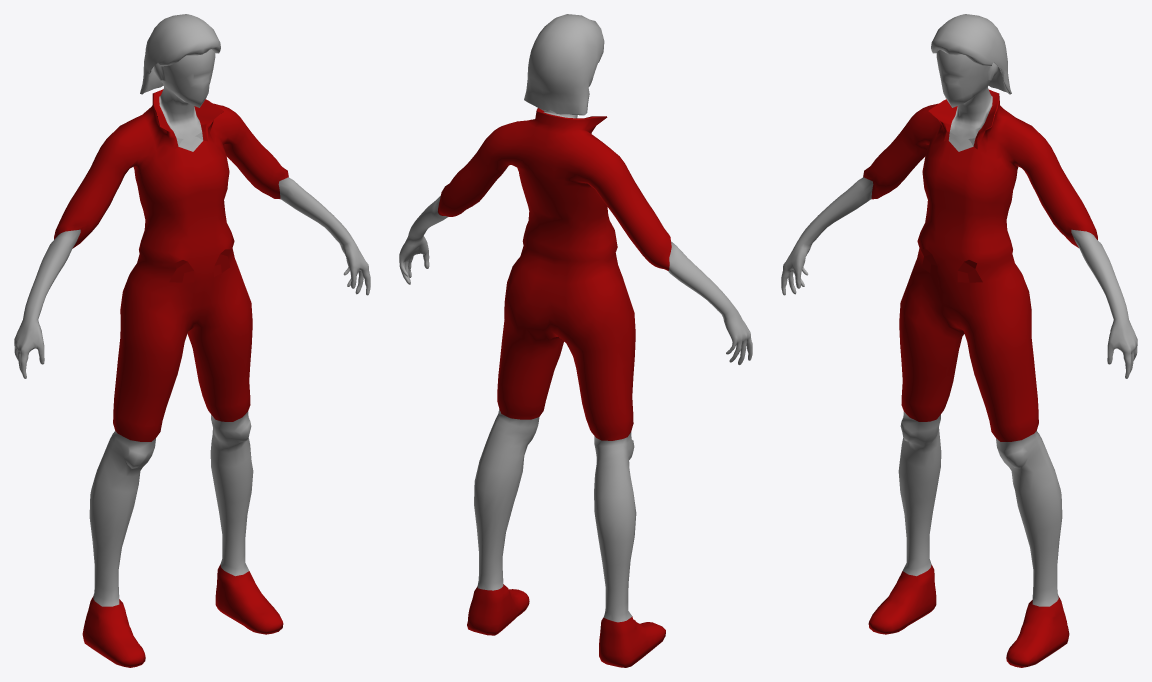
Rendered from Body_Low_UV.fbx.
3 renders of one model, left to right at view 1: azimuth 30°, elevation 25°; view 2: azimuth 150°, elevation 25°; view 3: azimuth 330°, elevation 25°, orthographic.
Visible parts, largest first — view 1: mesh_Alice; view 2: mesh_Alice; view 3: mesh_Alice.
Boxes of the visible parts, x1,y1,x2,y2 form: mesh_Alice: (14, 14, 370, 667); mesh_Alice: (399, 14, 752, 667); mesh_Alice: (781, 14, 1137, 667).
Bounding box in the file's own units: 3.51 × 5.96 × 0.8008.
